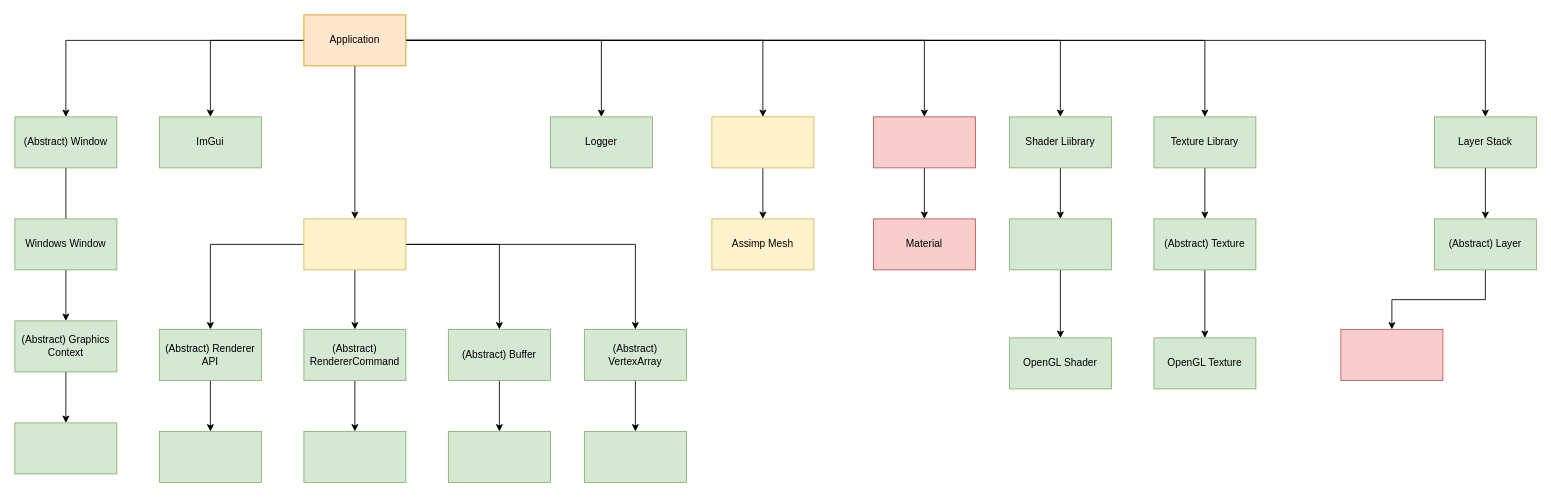
The diagram is 1551 pixels wide and 497 high, and some of its shapes have lost their labels. The shapes that lost their labels are listed below. From the top down, each one's box as (x1, y1, x2, y2) in pixels, then its label:
(711, 116, 814, 168): Assimp Model
(873, 116, 975, 168): Material Library
(303, 218, 406, 270): Renderer
(1009, 218, 1111, 270): (Abstract) Shader
(1340, 329, 1443, 380): ImGuiLayer
(14, 422, 117, 474): OpenGL Graphics Context
(159, 431, 261, 482): OpenGl Renderer API
(303, 431, 406, 482): OpenGL Renderer Command
(448, 431, 550, 482): OpenGL Buffer
(584, 431, 686, 482): OpenGL VertexArray
